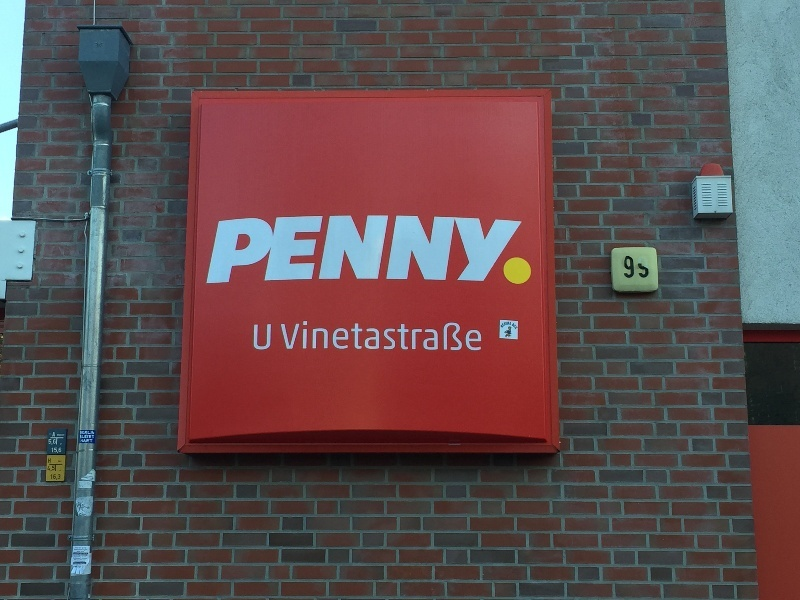text: (225, 216, 240, 286), (241, 216, 256, 286), (257, 216, 272, 286), (273, 216, 288, 286), (289, 216, 304, 286), (305, 216, 320, 286), (321, 216, 336, 286), (337, 216, 352, 286), (353, 216, 368, 286), (369, 216, 384, 286), (385, 216, 400, 286), (401, 216, 416, 286), (417, 216, 432, 286), (433, 216, 448, 286), (449, 216, 464, 286), (465, 216, 480, 286), (481, 216, 496, 286), (497, 216, 512, 286), (513, 216, 528, 286), (289, 322, 304, 352), (305, 322, 320, 352), (321, 322, 336, 352), (337, 322, 352, 352), (353, 322, 368, 352), (369, 322, 384, 352), (385, 322, 400, 352), (401, 322, 416, 352), (417, 322, 432, 352), (433, 322, 448, 352), (449, 322, 464, 352), (465, 322, 480, 352), (257, 325, 272, 351), (219, 216, 224, 286), (625, 257, 640, 278), (280, 322, 288, 352), (529, 216, 532, 286), (81, 547, 89, 569), (641, 257, 649, 278), (81, 431, 95, 443), (74, 547, 80, 569), (513, 322, 528, 330), (49, 464, 64, 472), (50, 438, 64, 445), (500, 322, 512, 330), (49, 439, 64, 445), (50, 474, 64, 480), (253, 325, 256, 351), (52, 448, 64, 454), (481, 322, 483, 352), (53, 432, 64, 437), (622, 257, 624, 278), (49, 466, 55, 472), (49, 459, 51, 464), (47, 466, 48, 472)
